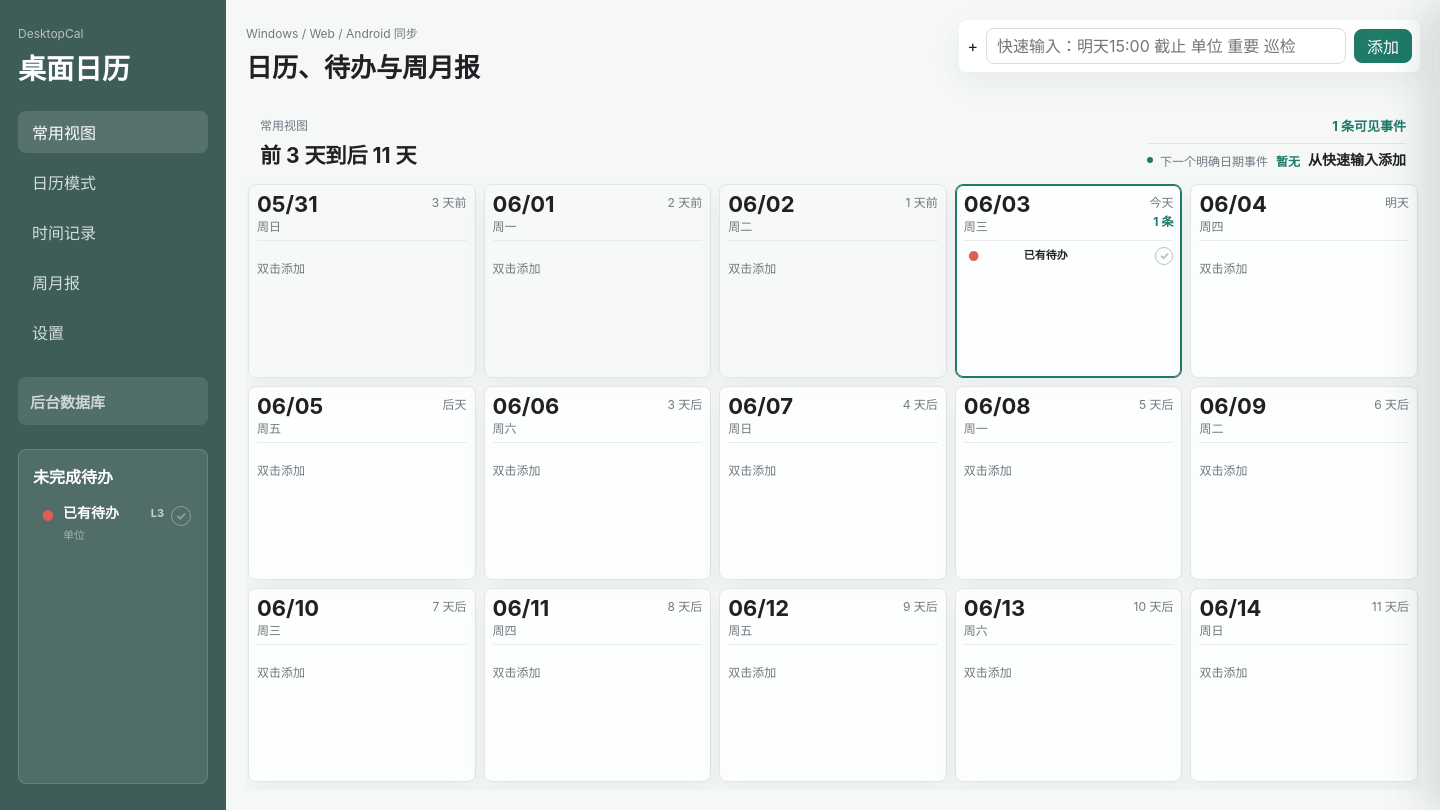
App event interactions › marks an existing drawer todo as done from the title action
Click the button with aria-label "编辑代办：已有待办" at point(100, 527), box [33,498,168,556]
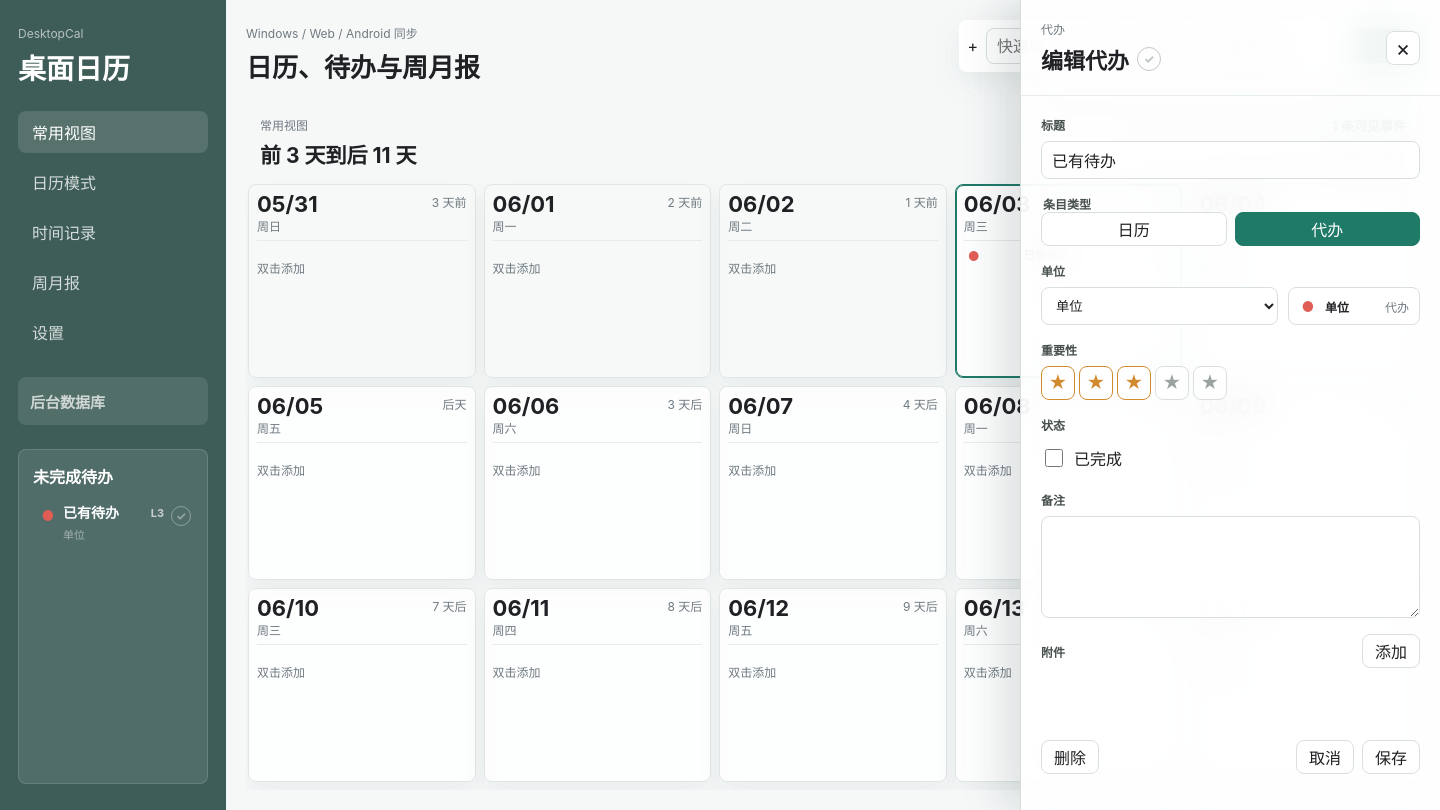
Click the button named "设为已办：已有待办" at point(1149, 59), box [1137,47,1161,71]
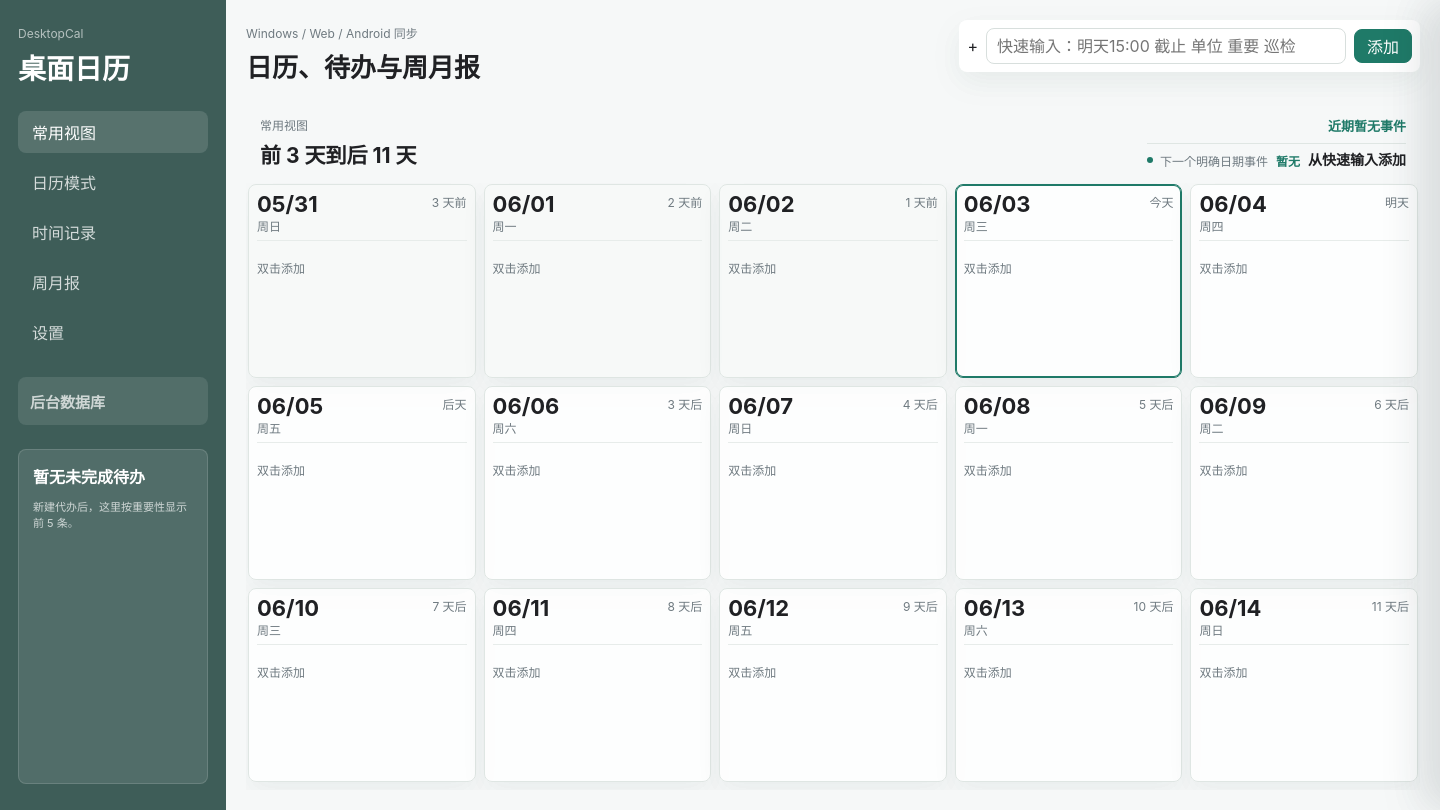
Now the heading "编辑代办" is gone
